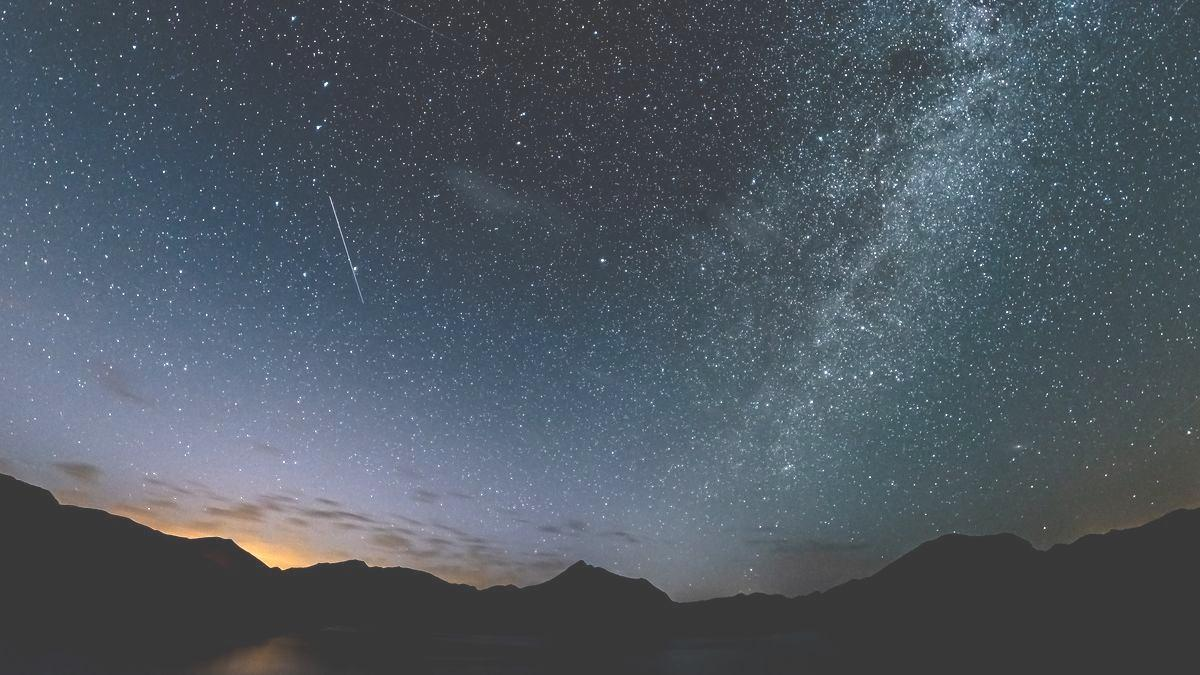meteorite: (309, 188, 361, 302)
